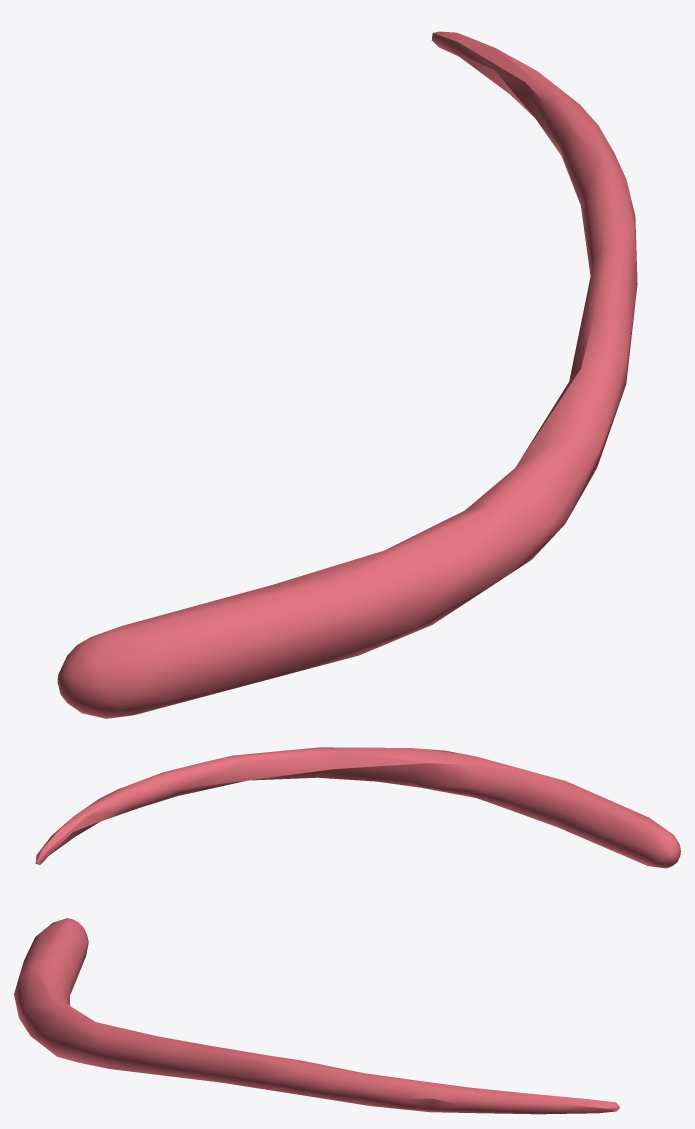
The model's file is fma9438_fj2928.glb.
The picture shows the model from 3 angles, top to bottom: view 1: azimuth 30°, elevation 25°; view 2: azimuth 150°, elevation 25°; view 3: azimuth 270°, elevation 25°; orthographic projection. The views are drawn at different scales.
Parts seen in each view (by area): view 1: FMA9438_FJ2928; view 2: FMA9438_FJ2928; view 3: FMA9438_FJ2928.
Part boxes in pixels (bbox=[...]): FMA9438_FJ2928: bbox=[57, 31, 637, 718]; FMA9438_FJ2928: bbox=[35, 747, 680, 868]; FMA9438_FJ2928: bbox=[14, 918, 619, 1114].
Size of the model in its own units: 0.0386 by 0.00812 by 0.0433.
